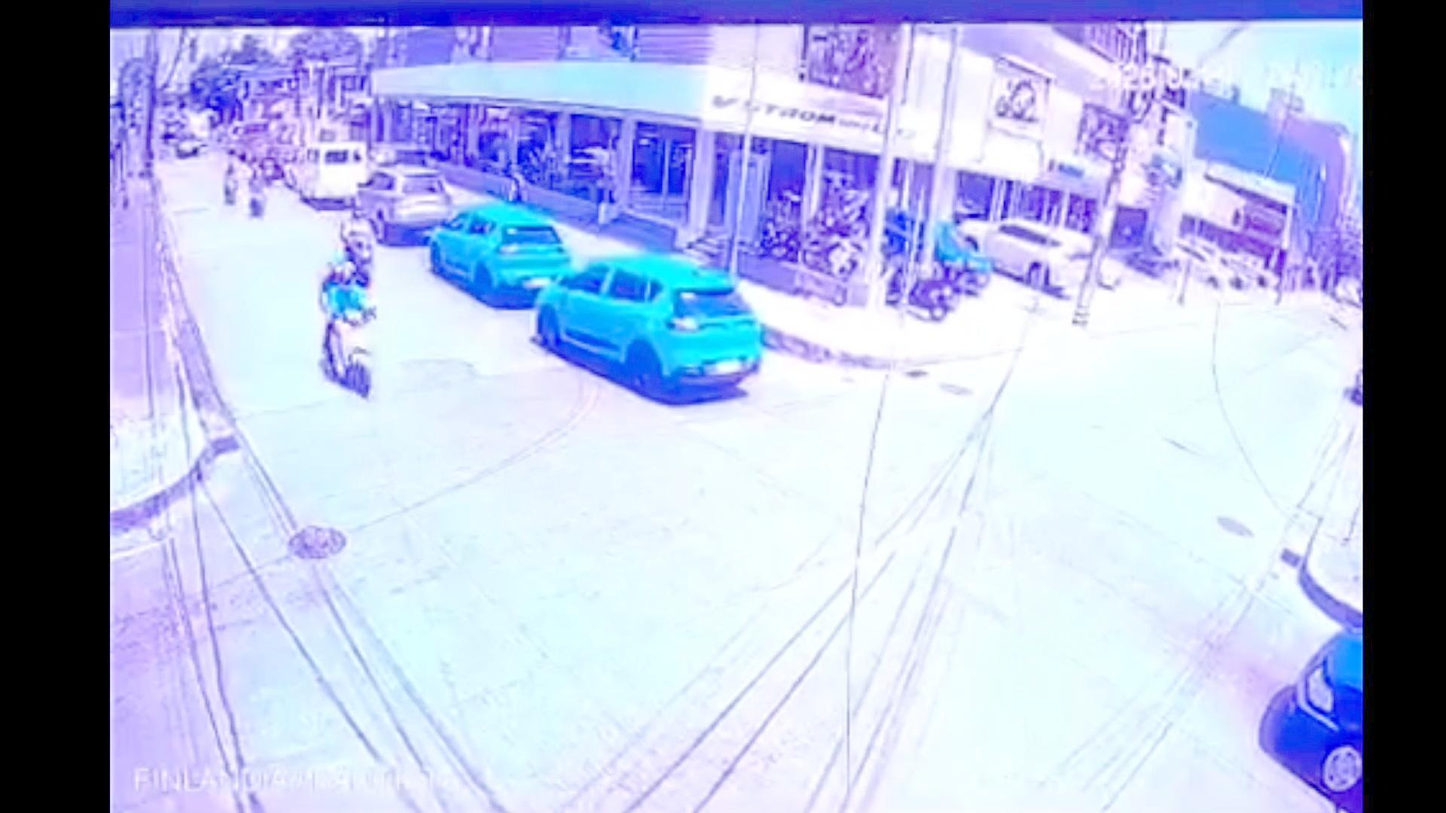Car: (542, 259, 764, 410), (1257, 627, 1363, 812), (424, 199, 571, 305), (879, 209, 993, 295), (971, 216, 1098, 292), (351, 163, 452, 243), (288, 142, 370, 207), (1169, 238, 1257, 291), (369, 143, 431, 172), (173, 132, 205, 158)
Motor: (320, 285, 375, 396), (887, 253, 956, 320), (338, 208, 376, 269), (500, 158, 529, 206), (246, 176, 267, 218), (222, 169, 240, 205)
